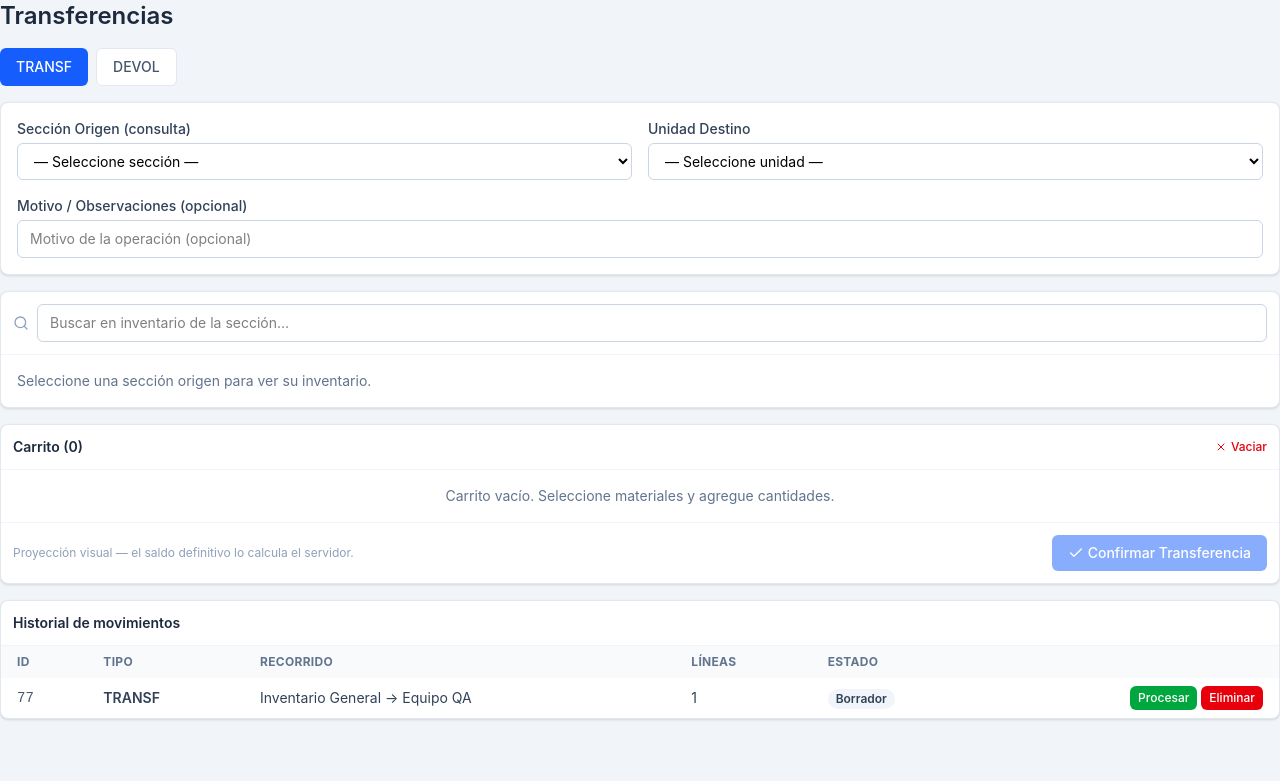
Test: Transferencias — Inventario FO único (REQ-TRF-001/002) › un TEAMS confirmado desde el historial (borrador) también anuncia el acta e invalida las actas de Entrega
Click the button "Procesar" at (1164, 698), box [1130,686,1197,710]
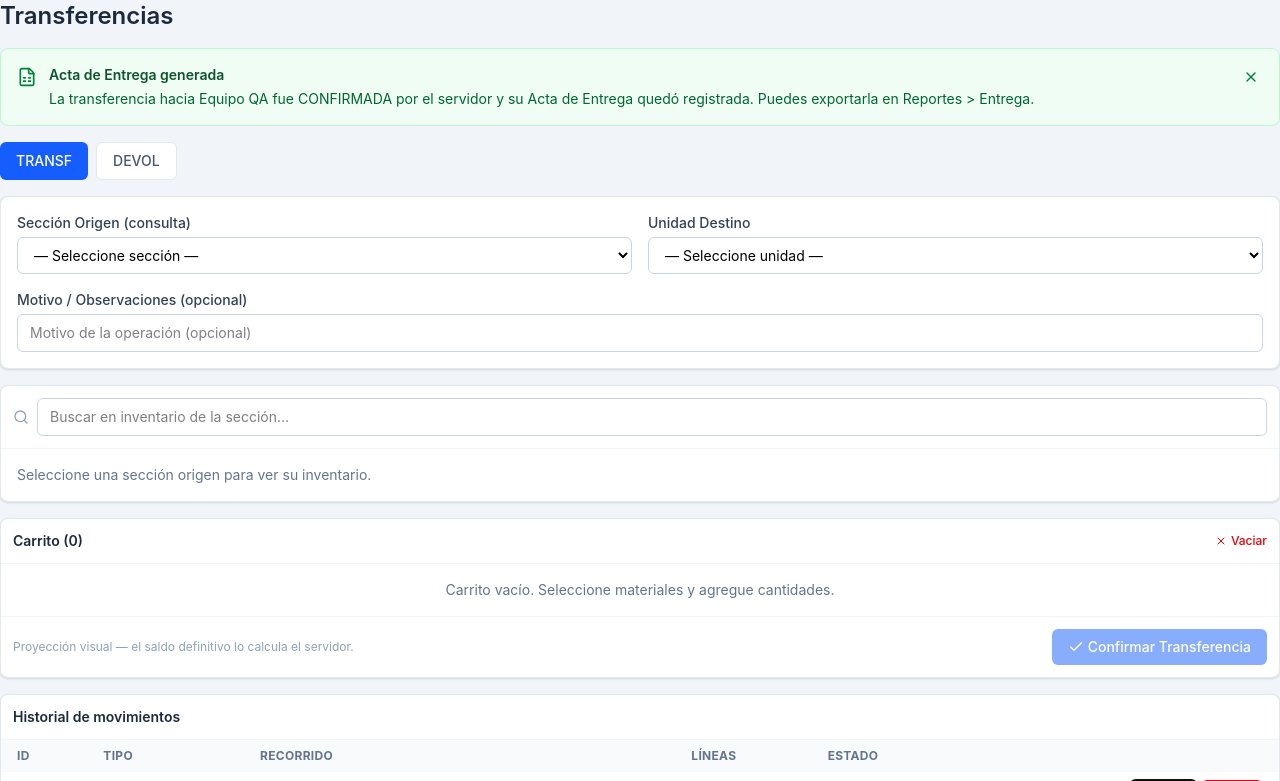
Now the text "Acta de Entrega generada" is shown, box [49,66,224,83]
